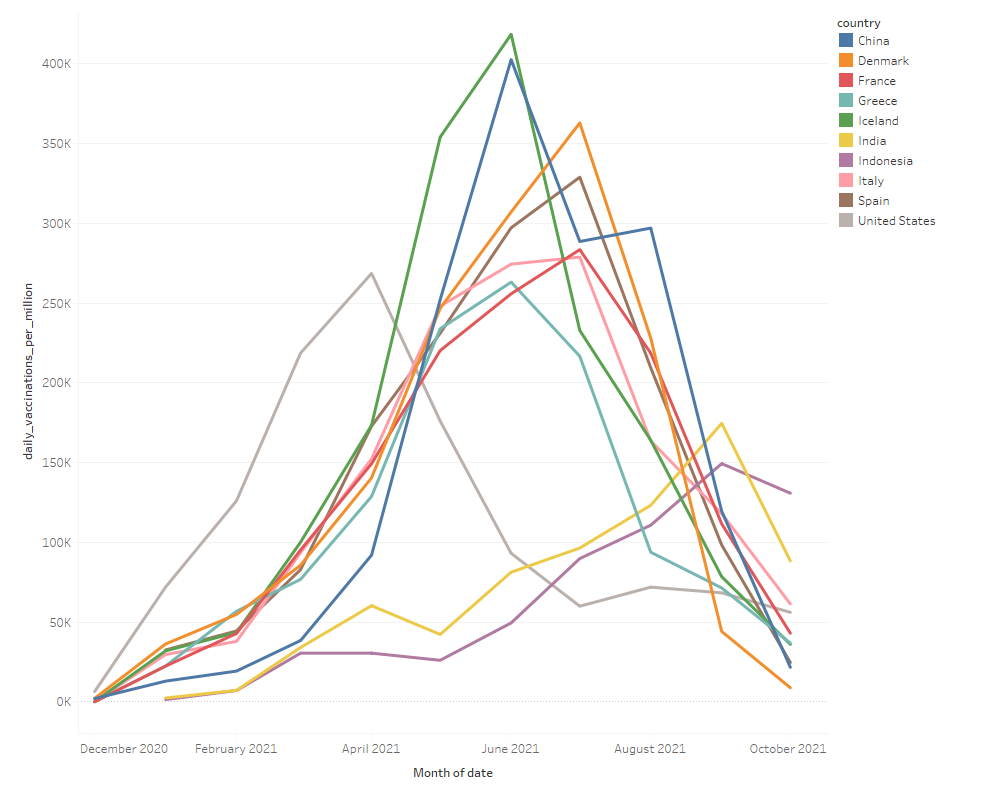

The dashboard page shown, as its layout file describes it:
{"tool":"tableau","page":{"name":"Dashboard 1","canvas":[1000,800],"ordinal":0},"visuals":[{"type":"worksheet","title":"Sheet 7","mark":"Automatic","rows":["country"],"cols":["people_fully_vaccinated"],"box":[8,8,984,784]}]}

Visuals, with their boxes in screenshot pixels (x1, y1, x2, y2), scaled from the page's 1000x800 canvas onto the 1000x800 screenshot:
"Sheet 7" worksheet: l=8, t=8, r=992, b=792
